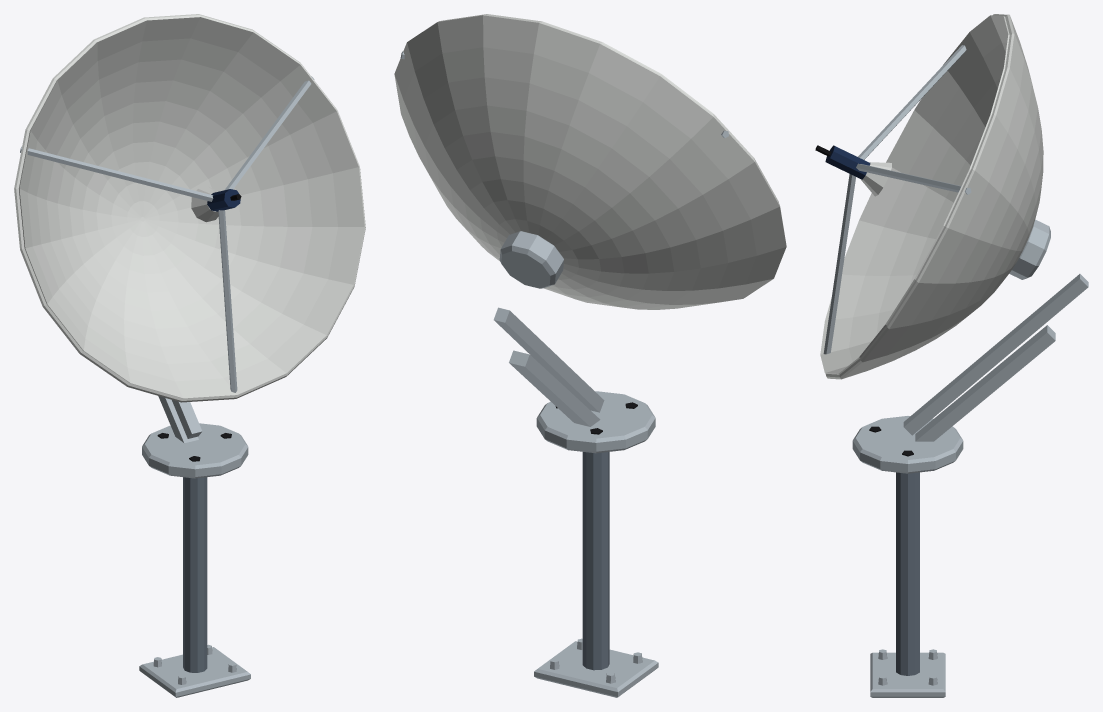
The model's file is UTILITY_09.obj.
The picture shows the model from 3 angles, left to right: view 1: azimuth 30°, elevation 25°; view 2: azimuth 150°, elevation 25°; view 3: azimuth 270°, elevation 25°; orthographic projection. The views are drawn at different scales.
Visible parts, largest first — view 1: UTILITY_09__reflector, UTILITY_09__mast, UTILITY_09__azimuth_plate, UTILITY_09__feed_strut, UTILITY_09__wall_plate, UTILITY_09__elevation_arm, UTILITY_09__feed_horn; view 2: UTILITY_09__reflector, UTILITY_09__mast, UTILITY_09__elevation_arm, UTILITY_09__azimuth_plate, UTILITY_09__wall_plate, UTILITY_09__hub; view 3: UTILITY_09__reflector, UTILITY_09__elevation_arm, UTILITY_09__mast, UTILITY_09__azimuth_plate, UTILITY_09__feed_strut, UTILITY_09__wall_plate, UTILITY_09__hub, UTILITY_09__lnb, UTILITY_09__feed_horn.
Part boxes in pixels (x1,y1,x2,y2): UTILITY_09__reflector: (14, 14, 365, 402); UTILITY_09__mast: (183, 477, 207, 672); UTILITY_09__azimuth_plate: (142, 423, 248, 478); UTILITY_09__feed_strut: (20, 76, 314, 392); UTILITY_09__wall_plate: (139, 644, 250, 697); UTILITY_09__elevation_arm: (158, 396, 202, 443); UTILITY_09__feed_horn: (191, 186, 218, 222); UTILITY_09__reflector: (394, 14, 786, 309); UTILITY_09__mast: (582, 452, 609, 670); UTILITY_09__elevation_arm: (493, 307, 604, 426); UTILITY_09__azimuth_plate: (536, 391, 655, 453); UTILITY_09__wall_plate: (534, 638, 658, 697); UTILITY_09__hub: (499, 231, 563, 288); UTILITY_09__reflector: (820, 14, 1043, 379); UTILITY_09__elevation_arm: (903, 274, 1088, 441); UTILITY_09__mast: (896, 472, 919, 675); UTILITY_09__azimuth_plate: (852, 416, 963, 473); UTILITY_09__feed_strut: (823, 45, 971, 354); UTILITY_09__wall_plate: (870, 649, 945, 697); UTILITY_09__hub: (1009, 219, 1050, 279); UTILITY_09__lnb: (825, 145, 870, 179); UTILITY_09__feed_horn: (861, 162, 891, 196).
Size of the model in its own units: 1.62 by 2.83 by 1.08.
